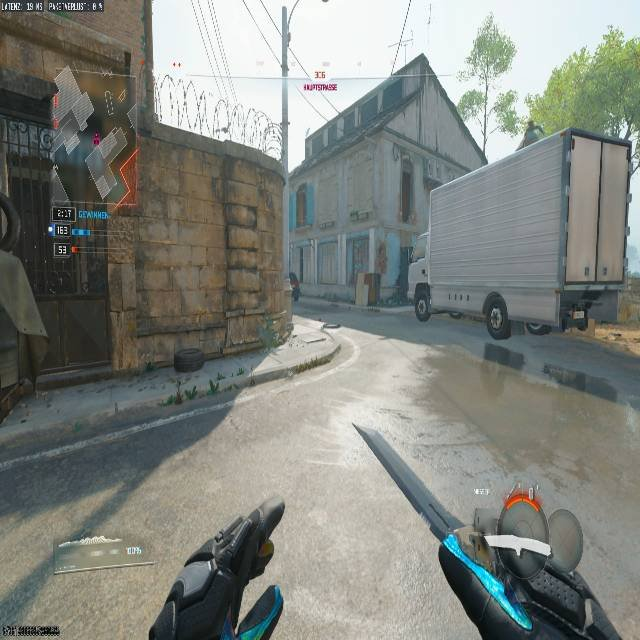head: (289, 271, 296, 278)
player: (288, 271, 301, 303)
